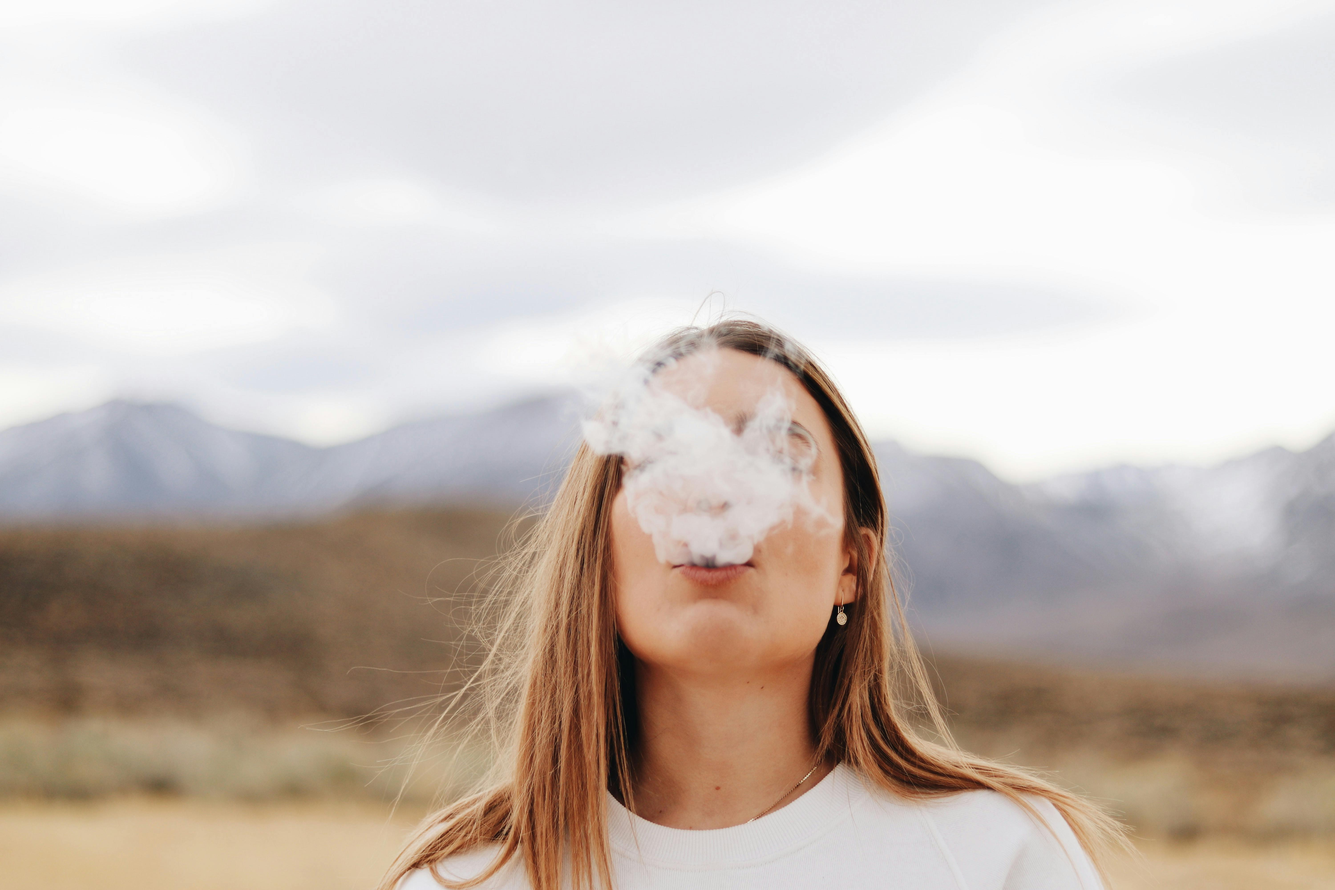smoker: (481, 154, 982, 826)
